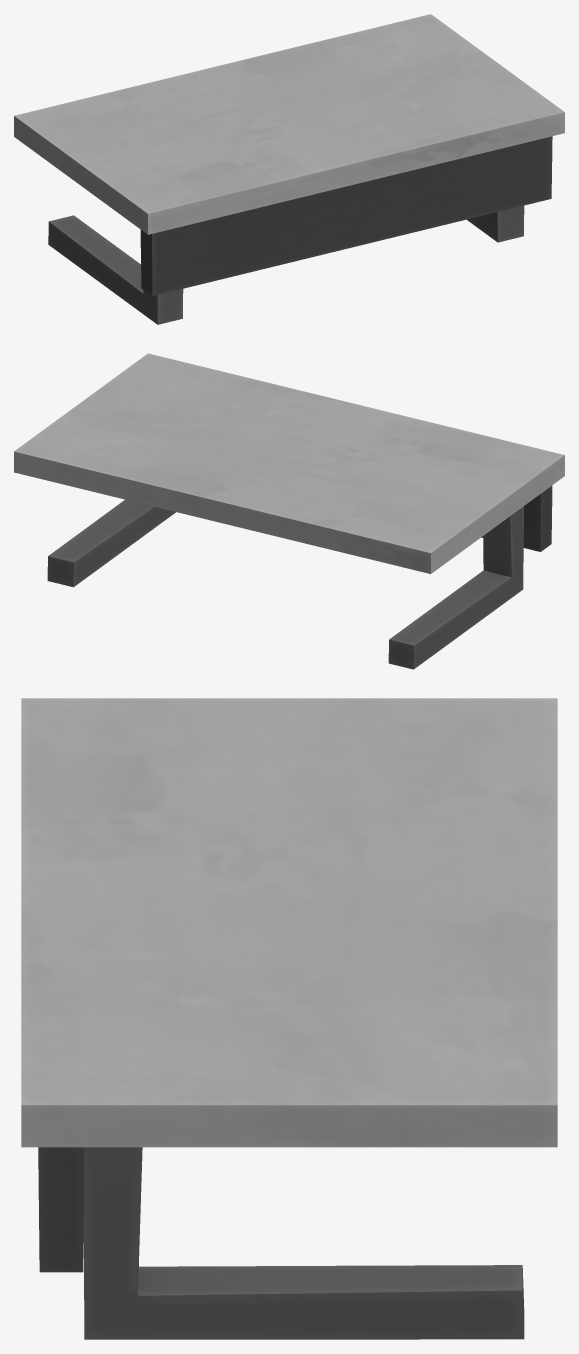
File: Pfb_Table__14.fbx
3 renders of one model, top to bottom at view 1: azimuth 30°, elevation 25°; view 2: azimuth 150°, elevation 25°; view 3: azimuth 270°, elevation 25°, orthographic. The views are drawn at different scales.
Parts seen in each view (by area): view 1: Mat_Table_01; view 2: Mat_Table_01; view 3: Mat_Table_01.
Part boxes in pixels (left/top/right/bottom): Mat_Table_01: left=14, top=14, right=564, bottom=324; Mat_Table_01: left=14, top=353, right=564, bottom=669; Mat_Table_01: left=21, top=698, right=557, bottom=1339.
Size of the model in its own units: 2.23 by 0.6604 by 1.24.
1 material, 1 textured.
